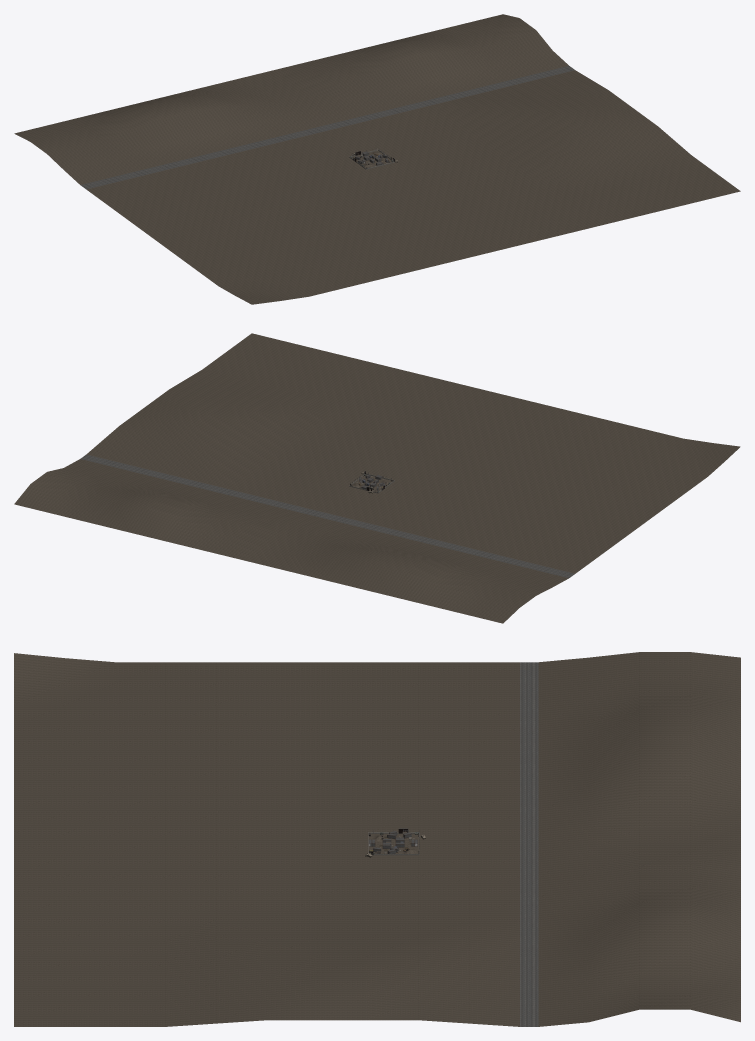
File: Crackdown_World.obj
3 renders of one model, top to bottom at view 1: azimuth 30°, elevation 25°; view 2: azimuth 150°, elevation 25°; view 3: azimuth 270°, elevation 25°, orthographic. The views are drawn at different scales.
Parts seen in each view (by area): view 1: Crackdown_1; view 2: Crackdown_1; view 3: Crackdown_1.
Boxes of the visible parts, x1,y1,x2,y2 form: Crackdown_1: [14, 14, 740, 304]; Crackdown_1: [14, 333, 740, 623]; Crackdown_1: [14, 652, 740, 1026].
Size of the model in its own units: 589 by 16.68 by 496.
Materials: 24 (24 with a texture image).
